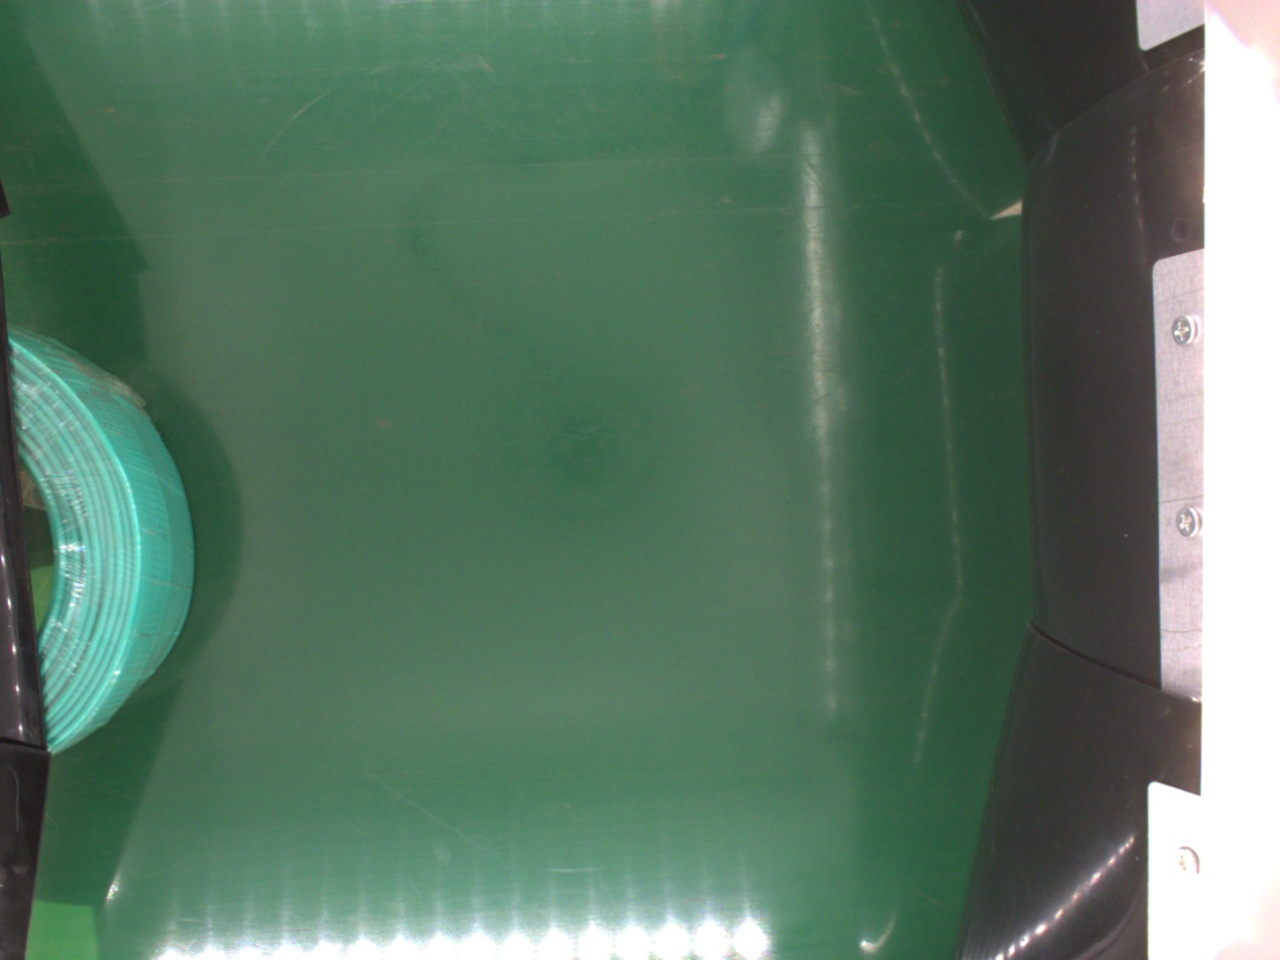green: (8, 323, 198, 758)
